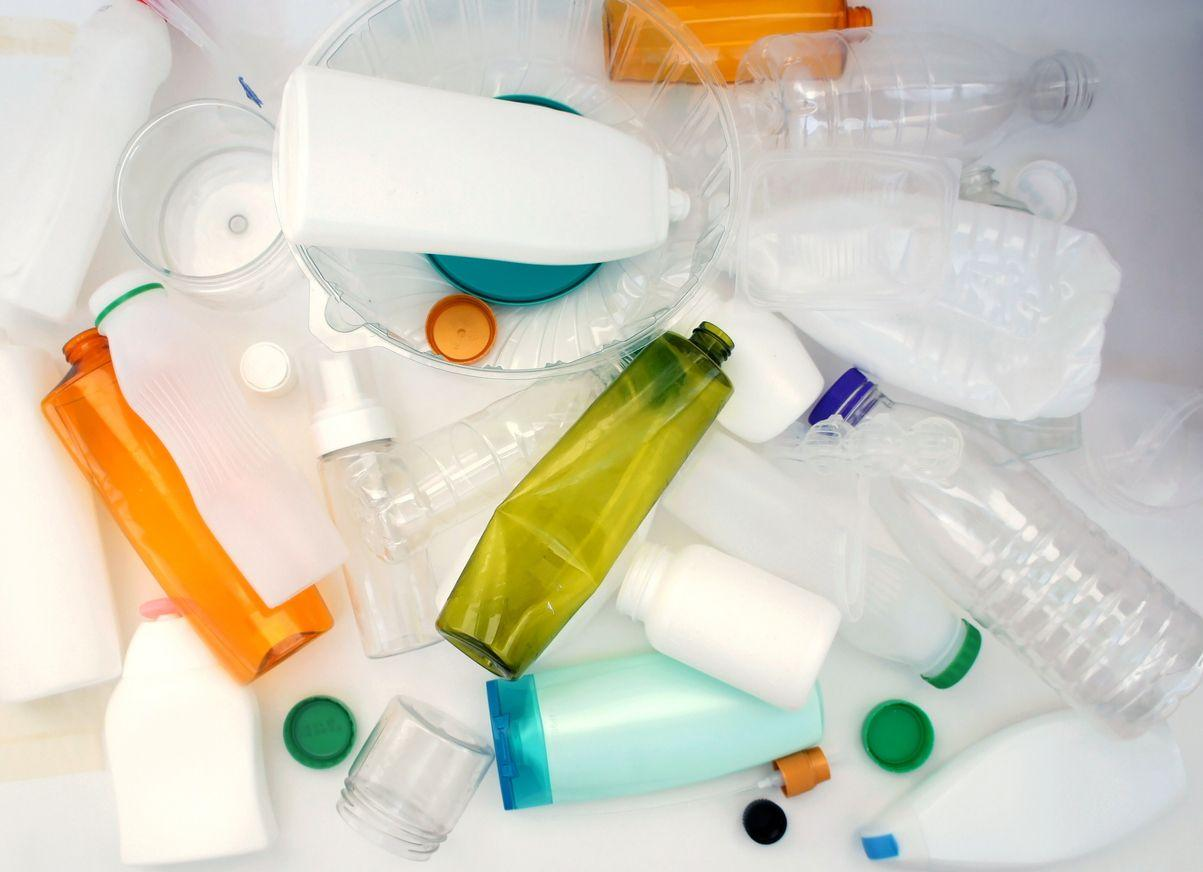HDPE: (272, 64, 697, 267), (0, 0, 182, 322), (862, 706, 1182, 872), (99, 599, 280, 872), (0, 339, 124, 706), (532, 650, 822, 806), (610, 538, 837, 710), (280, 690, 358, 768), (858, 698, 933, 776), (806, 364, 870, 436), (234, 334, 289, 399)
PETE: (848, 402, 1203, 734), (338, 354, 664, 535), (736, 28, 1101, 164)
PP: (437, 326, 732, 682), (724, 192, 1125, 423), (110, 98, 302, 308), (334, 699, 502, 864), (310, 358, 394, 452)
